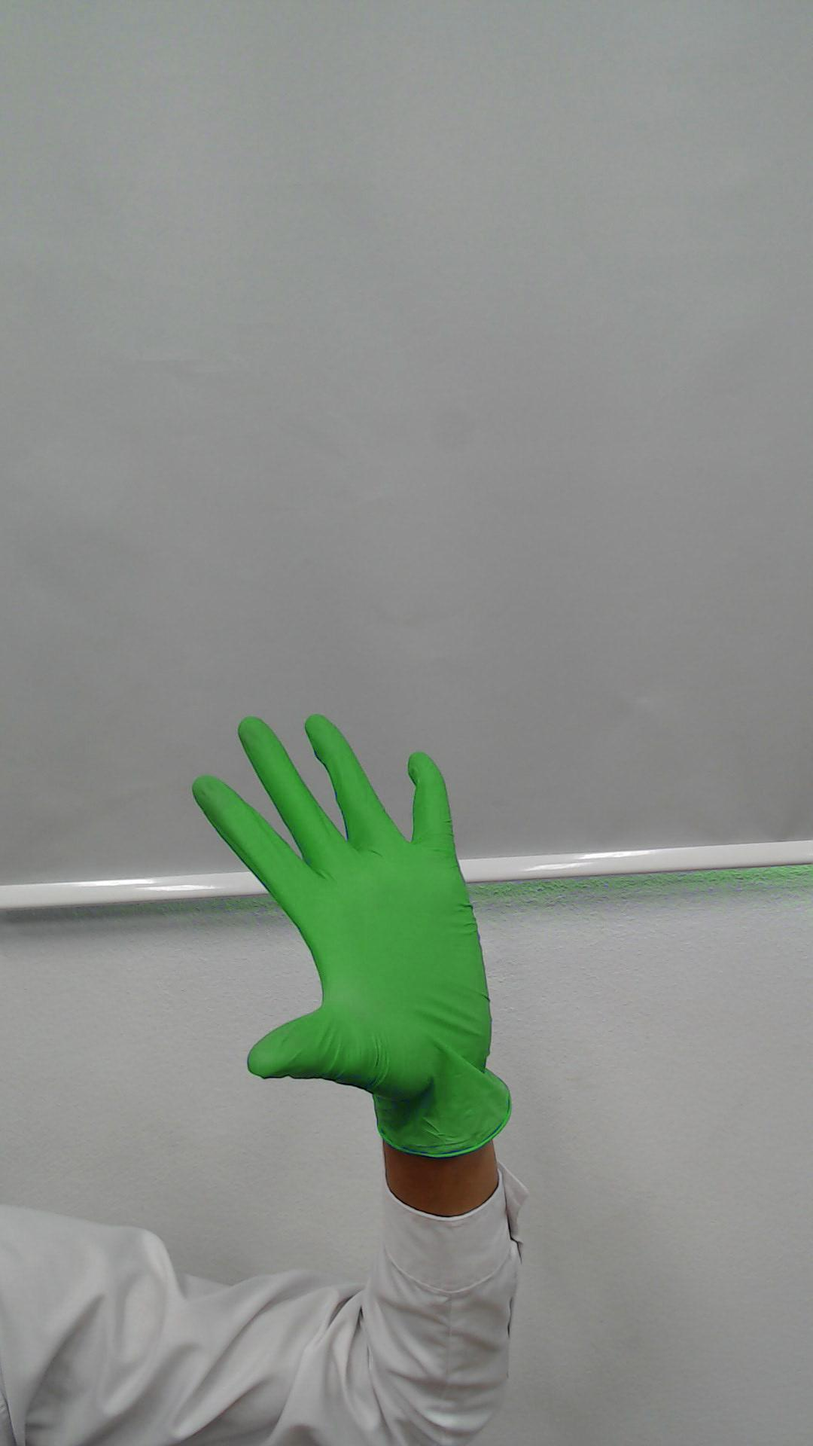gloves: (182, 697, 509, 1111)
